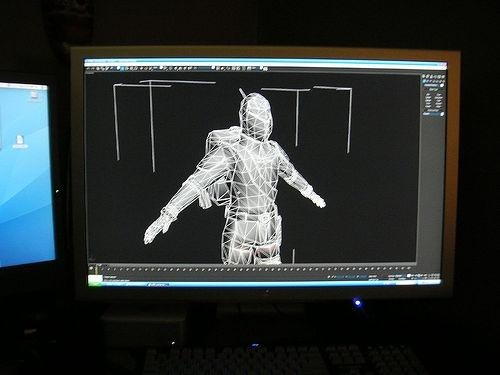tvmonitor: (68, 46, 462, 303), (1, 71, 66, 280)
